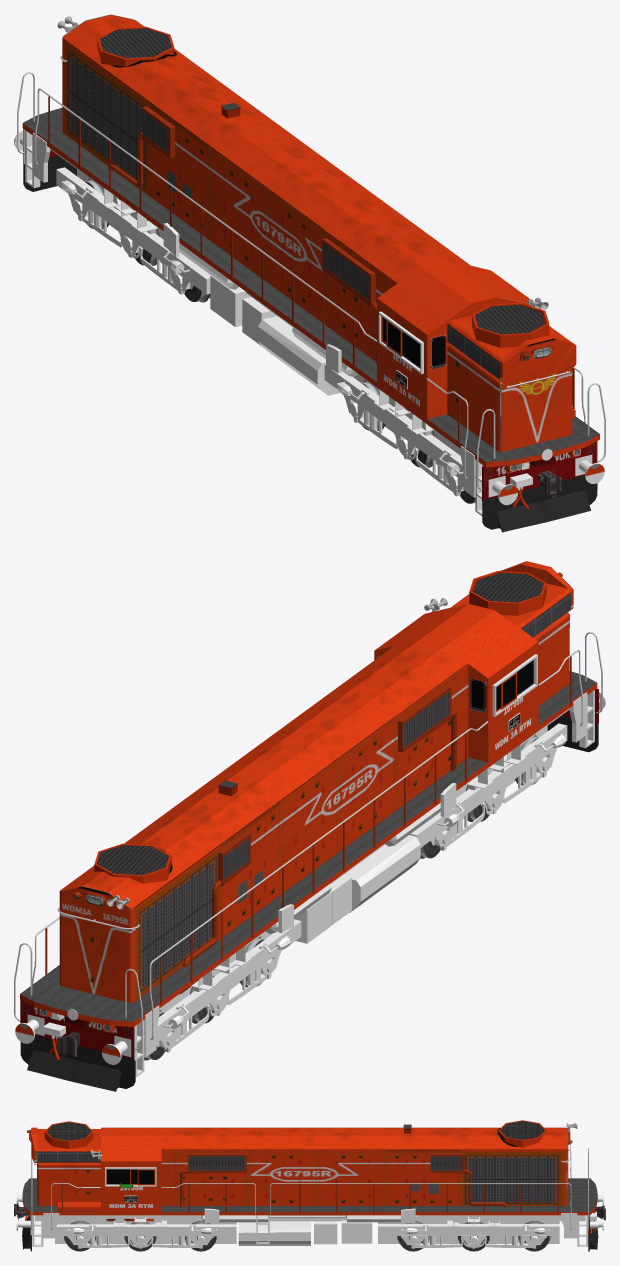
The model's file is loco_wdg3a_wdm_rtm.glb.
The picture shows the model from 3 angles, top to bottom: view 1: azimuth 30°, elevation 25°; view 2: azimuth 150°, elevation 25°; view 3: azimuth 270°, elevation 25°; orthographic projection. The views are drawn at different scales.
Parts seen in each view (by area): view 1: wdm_3a_rtm__indian_railway_wdg3a_goc_13449.glb; view 2: wdm_3a_rtm__indian_railway_wdg3a_goc_13449.glb; view 3: wdm_3a_rtm__indian_railway_wdg3a_goc_13449.glb.
Part boxes in pixels (bbox=[...]): wdm_3a_rtm__indian_railway_wdg3a_goc_13449.glb: bbox=[14, 14, 605, 532]; wdm_3a_rtm__indian_railway_wdg3a_goc_13449.glb: bbox=[14, 561, 605, 1091]; wdm_3a_rtm__indian_railway_wdg3a_goc_13449.glb: bbox=[14, 1120, 605, 1251].
Bounding box in the file's own units: 3.22 × 4.32 × 20.06.
5 materials, 4 textured.
